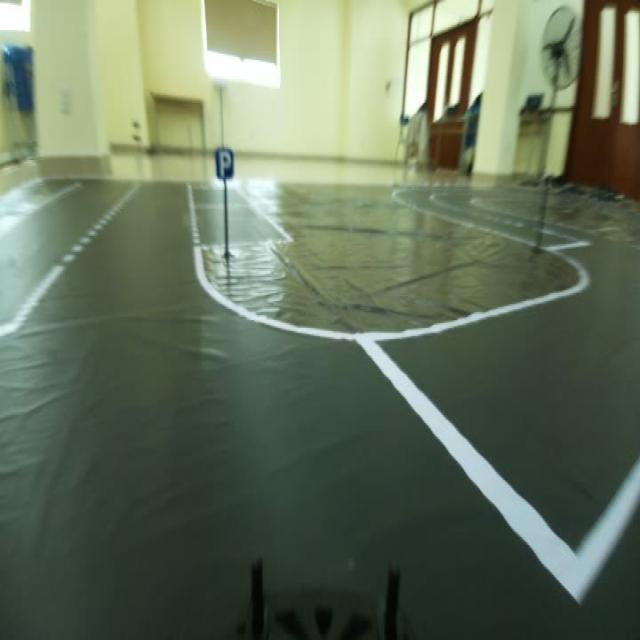parking: (213, 137, 240, 186)
